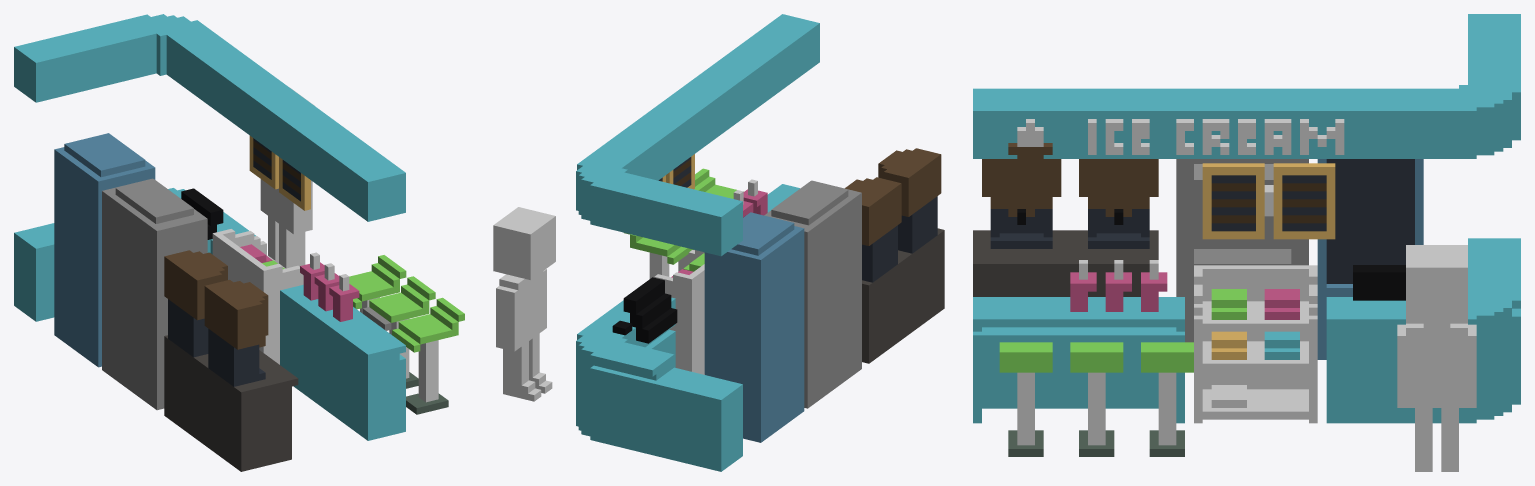
File: shop-6.obj
3 views of the same model, side by side, from view 1: azimuth 30°, elevation 25°; view 2: azimuth 150°, elevation 25°; view 3: azimuth 270°, elevation 25° (orthographic). The views are drawn at different scales.
Bounding box in the file's own units: 4 × 3.9 × 6.2.
1 material, 1 textured.
